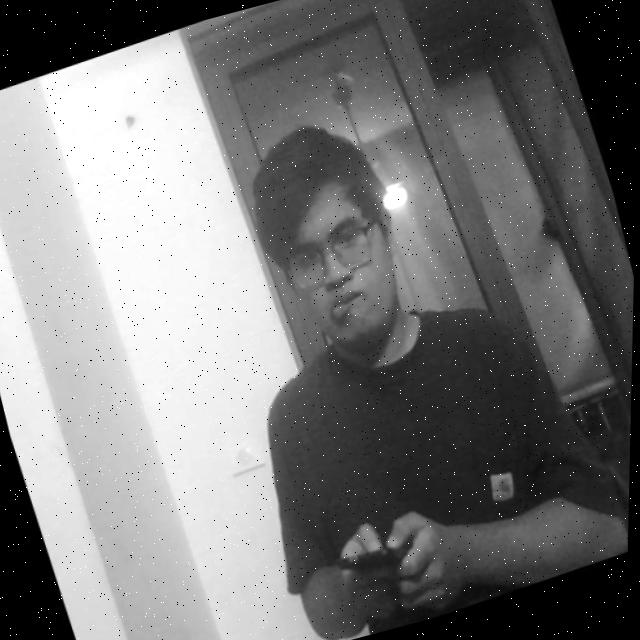phone: (324, 509, 435, 606)
